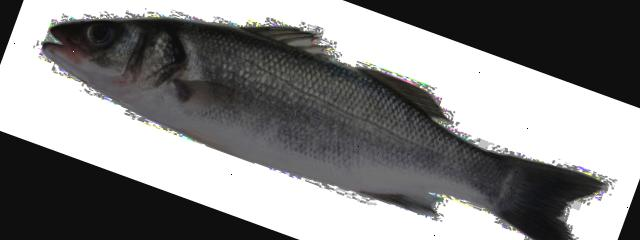Healthy Fish: (42, 18, 603, 240)
